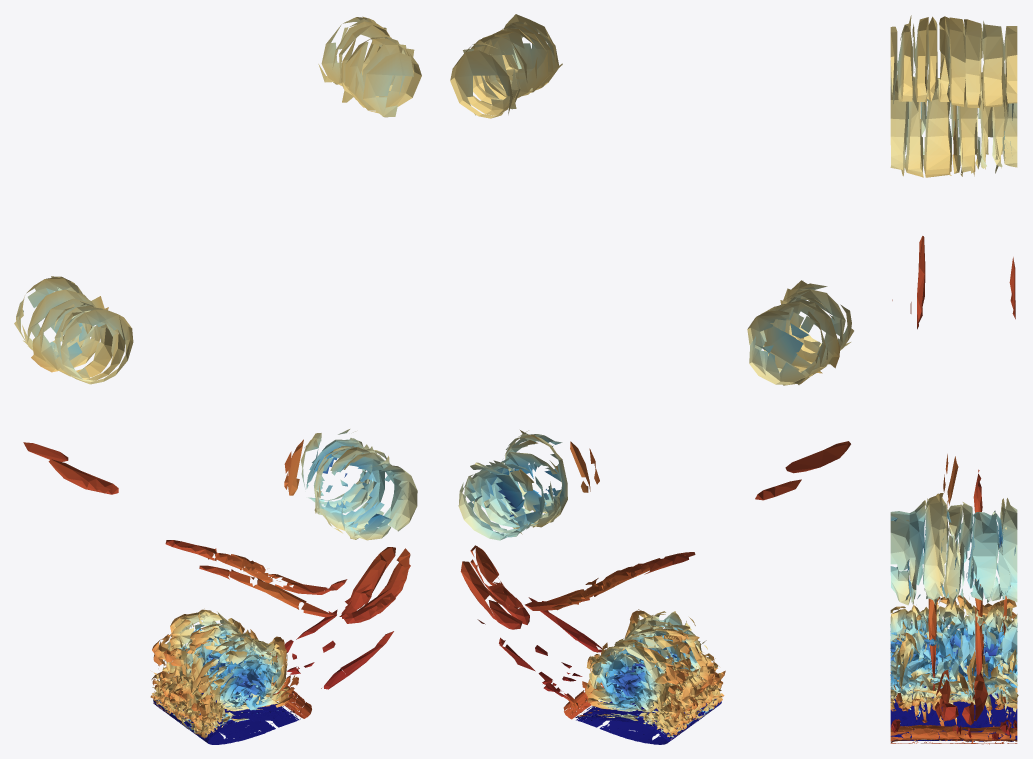
File: flowfield_5_ViscosityEddy.glb
3 renders of one model, left to right at view 1: azimuth 30°, elevation 25°; view 2: azimuth 150°, elevation 25°; view 3: azimuth 270°, elevation 25°, orthographic. The views are drawn at different scales.
Parts seen in each view (by area): view 1: Renderer Node; view 2: Renderer Node; view 3: Renderer Node.
Boxes of the visible parts, x1,y1,x2,y2 form: Renderer Node: (14,16,421,744); Renderer Node: (450,14,853,744); Renderer Node: (890,15,1018,744).
Size of the model in its own units: 4.11 by 6.86 by 1.02.
Materials: 1 (1 with a texture image).
